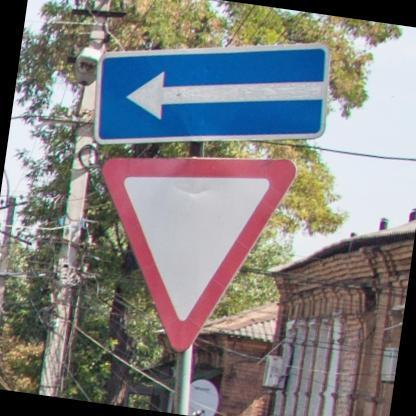road_sign: (103, 158, 295, 352), (96, 44, 328, 143)
